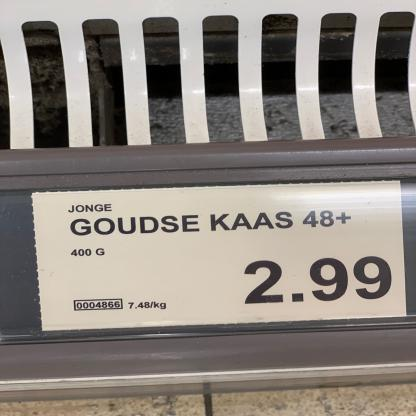prtg: (32, 181, 409, 332)
